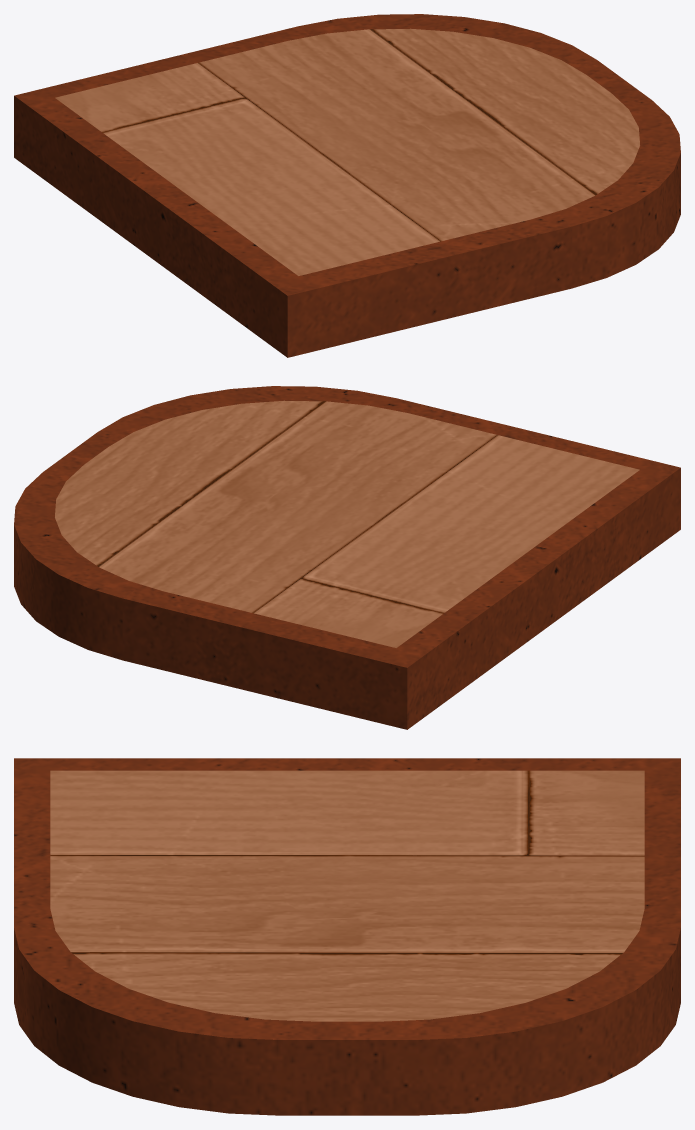
The model's file is FloorTile_TC_1.glb.
The picture shows the model from 3 angles, top to bottom: view 1: azimuth 30°, elevation 25°; view 2: azimuth 150°, elevation 25°; view 3: azimuth 270°, elevation 25°; orthographic projection. The views are drawn at different scales.
Visible parts, largest first — view 1: Plane.003, Cube.003; view 2: Plane.003, Cube.003; view 3: Plane.003, Cube.003.
Boxes of the visible parts, <box> form: Plane.003: <box>55,28,639,275</box>; Cube.003: <box>14,14,680,357</box>; Plane.003: <box>55,400,639,647</box>; Cube.003: <box>14,386,680,729</box>; Plane.003: <box>50,770,644,1021</box>; Cube.003: <box>14,758,680,1115</box>.
Bounding box in the file's own units: 2 × 0.26 × 2.
Materials: 2 (2 with a texture image).
